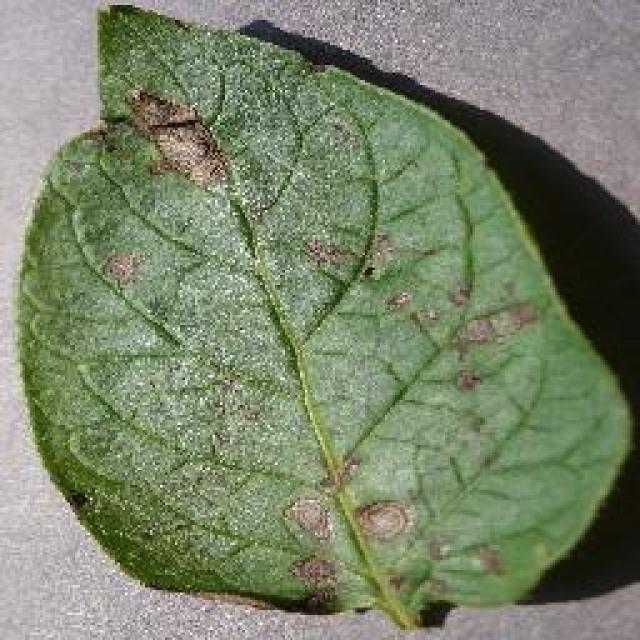early_blight: (10, 0, 638, 630)
